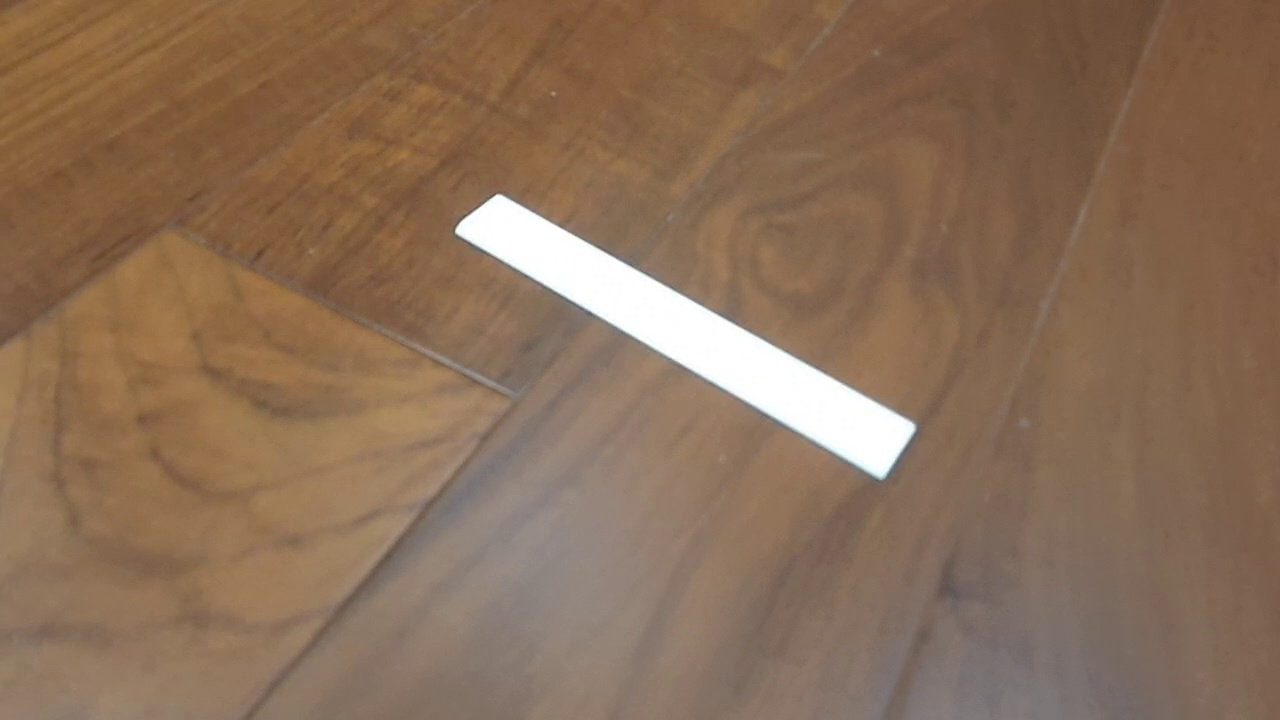ruler: (453, 191, 920, 485)
